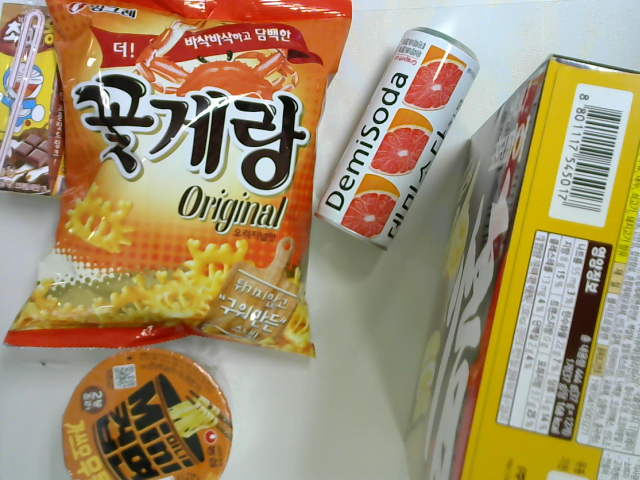Choco_E_Mong: (1, 1, 66, 196)
Choco_Pie_Banana: (408, 55, 640, 480)
Crabrang: (2, 1, 353, 360)
Demisoda_Grapefruit_Can_250ml: (316, 27, 481, 255)
Udongmini: (59, 344, 235, 480)
